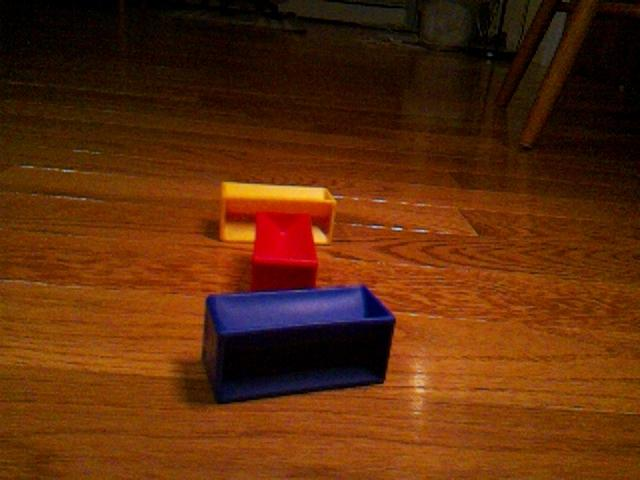blue: (201, 283, 397, 404)
red: (249, 210, 319, 292)
yellow: (219, 180, 338, 247)
